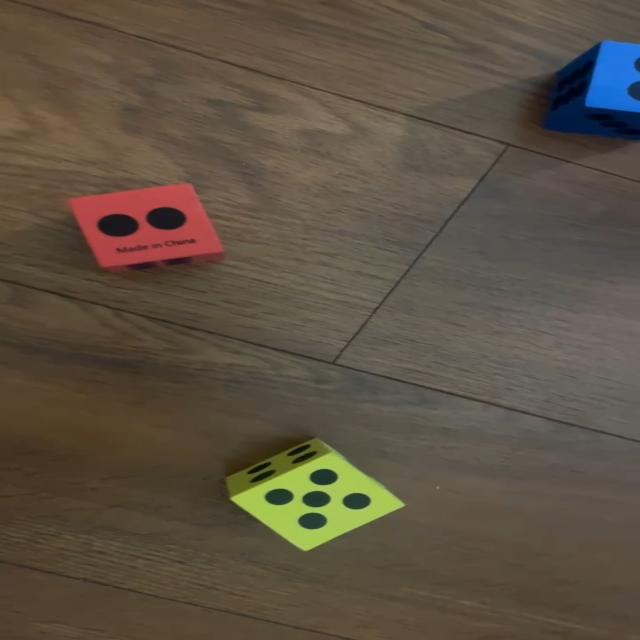blue_block: (546, 38, 640, 139)
red_block: (69, 182, 225, 274)
